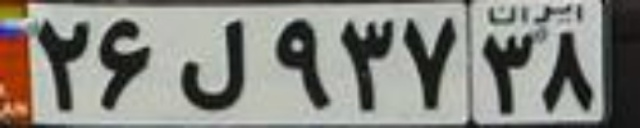2: (35, 18, 88, 113)
3: (480, 33, 539, 114), (339, 16, 389, 111)
6: (96, 17, 153, 110)
7: (400, 14, 460, 111)
8: (539, 31, 595, 114)
9: (271, 17, 331, 110)
lam: (178, 17, 248, 109)
